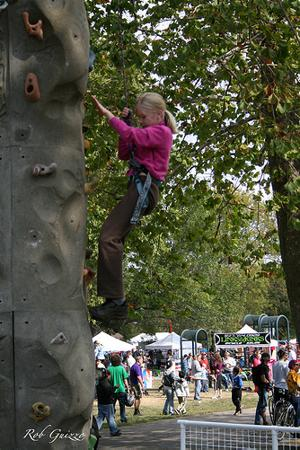person: (91, 91, 176, 322)
